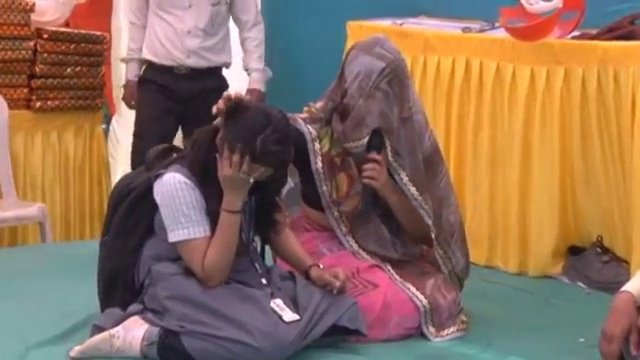helmet: (25, 0, 88, 27)
helmet_off: (331, 39, 418, 147), (203, 108, 302, 197)
person: (75, 107, 366, 360), (279, 36, 469, 340), (116, 0, 262, 159)
